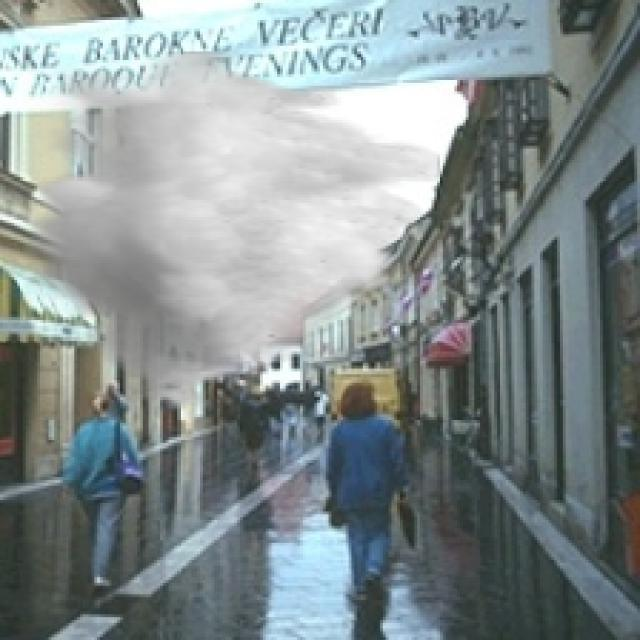Smoke: (23, 52, 440, 417)
